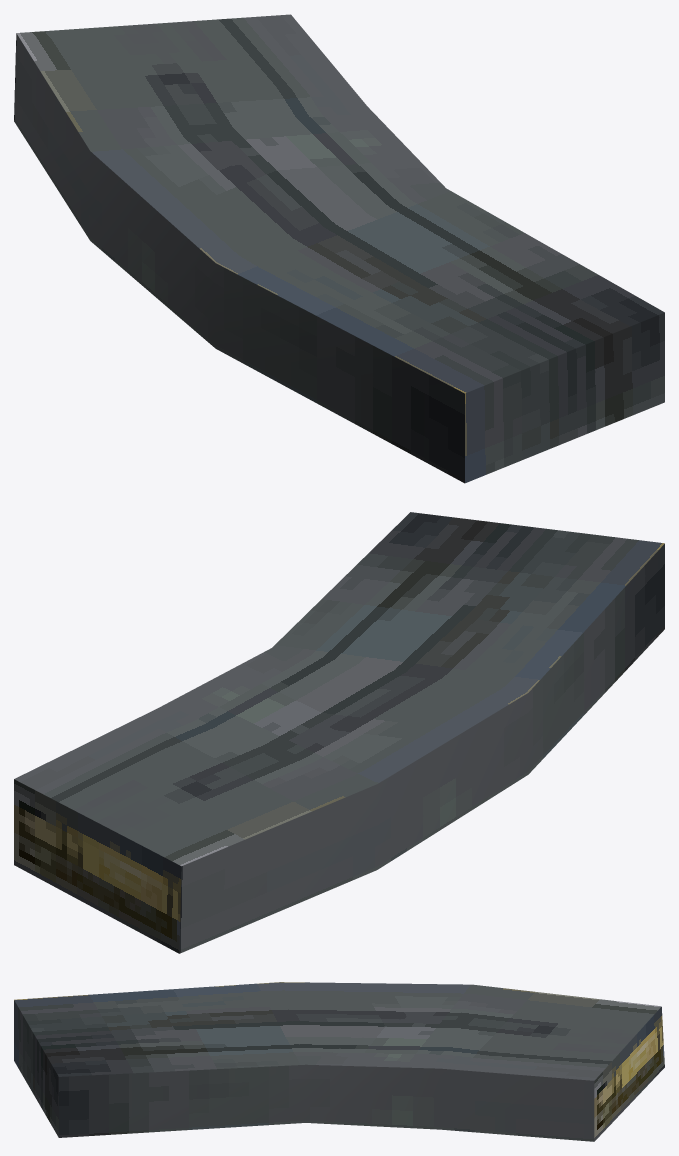
File: AK74_CLIP.glb
The picture shows the model from 3 angles, top to bottom: view 1: azimuth 30°, elevation 25°; view 2: azimuth 150°, elevation 25°; view 3: azimuth 270°, elevation 25°; orthographic projection. The views are drawn at different scales.
Parts seen in each view (by area): view 1: AK74_CLIP; view 2: AK74_CLIP; view 3: AK74_CLIP.
Boxes of the visible parts, <box> form: AK74_CLIP: <box>14,14,664,483</box>; AK74_CLIP: <box>14,512,664,953</box>; AK74_CLIP: <box>14,982,664,1141</box>.
Bounding box in the file's own units: 0.075 × 0.022 × 0.203.
Materials: 1 (1 with a texture image).
